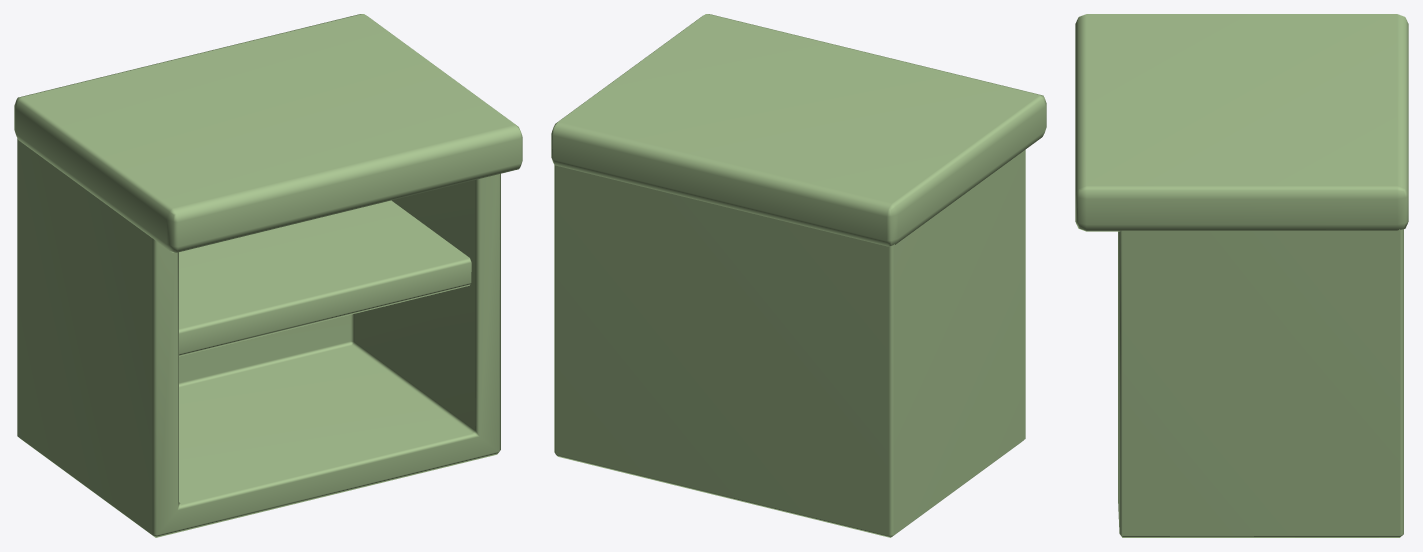
The model's file is Kitchen_Cabinet_9.glb.
3 renders of one model, left to right at view 1: azimuth 30°, elevation 25°; view 2: azimuth 150°, elevation 25°; view 3: azimuth 270°, elevation 25°, orthographic. The views are drawn at different scales.
Visible parts, largest first — view 1: Kitchen_Cabinet_9; view 2: Kitchen_Cabinet_9; view 3: Kitchen_Cabinet_9.
Boxes of the visible parts, left/top/right/bottom form: Kitchen_Cabinet_9: left=14, top=14, right=522, bottom=537; Kitchen_Cabinet_9: left=551, top=14, right=1046, bottom=537; Kitchen_Cabinet_9: left=1075, top=14, right=1408, bottom=537.
Size of the model in its own units: 1.08 by 0.9956 by 0.8541.
1 material, 1 textured.
